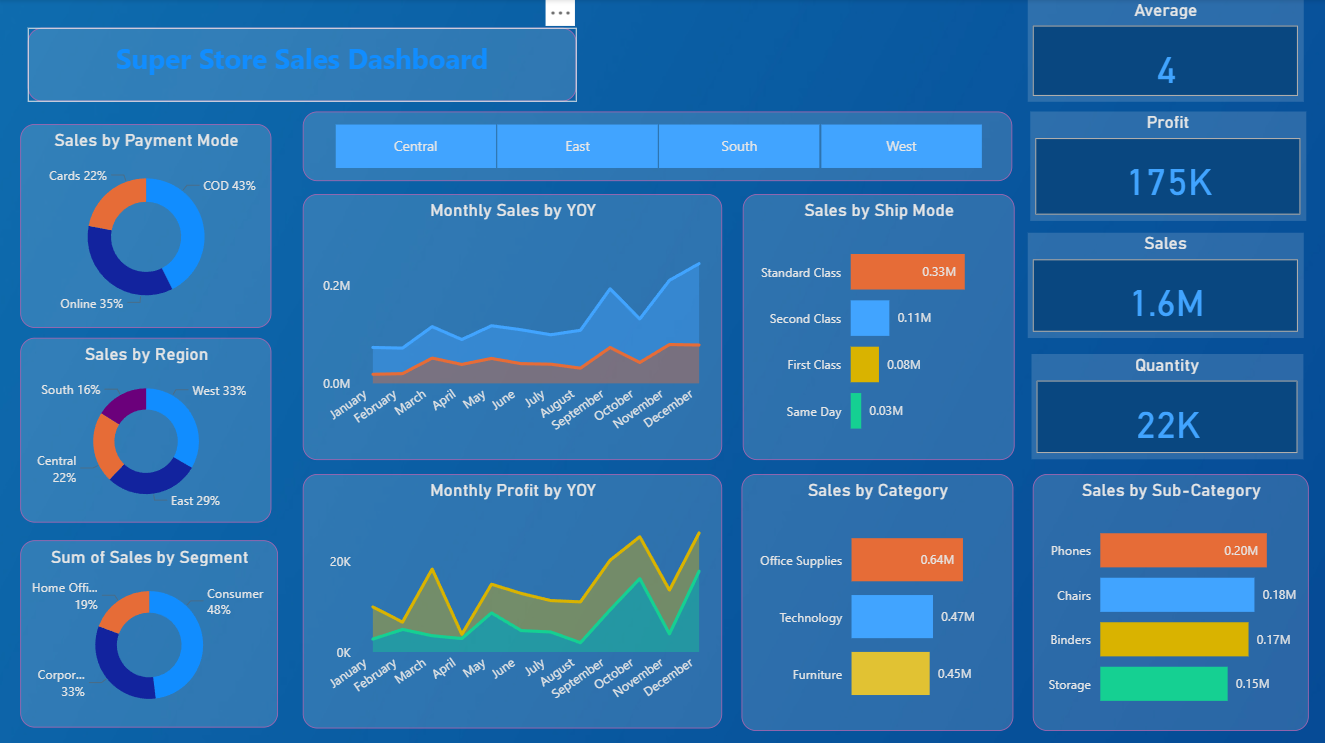

This screenshot's page, from the dashboard's own definition file:
{"tool":"powerbi","page":{"name":"Page 1","canvas":[1280,720],"ordinal":0},"visuals":[{"type":"clusteredBarChart","title":" Sales by Category","fields":{"Category":["SuperStore_Sales_Dataset.Category"],"Y":["Sum(SuperStore_Sales_Dataset.Sales)"]},"box":[716.3,458.3,262.1,248.4],"z":0},{"type":"clusteredBarChart","title":" Sales by Sub-Category","fields":{"Category":["SuperStore_Sales_Dataset.Sub-Category"],"Y":["Sum(SuperStore_Sales_Dataset.Sales)"]},"box":[997.6,458.3,266.2,248.4],"z":1000},{"type":"clusteredBarChart","title":" Sales by Ship Mode","fields":{"Category":["SuperStore_Sales_Dataset.Ship Mode"],"Y":["Sum(SuperStore_Sales_Dataset.Sales)"]},"box":[717.7,188,262.1,256.6],"z":2000},{"type":"stackedAreaChart","title":"Monthly Sales by YOY","fields":{"Y":["Sum(SuperStore_Sales_Dataset.Sales)"],"Category":["SuperStore_Sales_Dataset.Order Date.Variation.Date Hierarchy.Month","SuperStore_Sales_Dataset.Order Date.Variation.Date Hierarchy.Day"],"Series":["SuperStore_Sales_Dataset.Order Date.Variation.Date Hierarchy.Year"]},"box":[293.7,188,404.8,256.6],"z":3000},{"type":"stackedAreaChart","title":"Monthly Profit by YOY","fields":{"Category":["SuperStore_Sales_Dataset.Order Date.Variation.Date Hierarchy.Month","SuperStore_Sales_Dataset.Order Date.Variation.Date Hierarchy.Day"],"Series":["SuperStore_Sales_Dataset.Order Date.Variation.Date Hierarchy.Year"],"Y":["Sum(SuperStore_Sales_Dataset.Profit)"]},"box":[293.7,458.3,404.8,245.6],"z":4000},{"type":"donutChart","fields":{"Category":["SuperStore_Sales_Dataset.Segment"],"Y":["Sum(SuperStore_Sales_Dataset.Sales)"]},"box":[20.5,522.4,248.5,181],"z":5000},{"type":"donutChart","title":"Sales by Payment Mode","fields":{"Category":["SuperStore_Sales_Dataset.Payment Mode"],"Y":["Sum(SuperStore_Sales_Dataset.Sales)"]},"box":[20.5,120.6,242.5,196.6],"z":6000},{"type":"donutChart","title":"Sales by Region","fields":{"Category":["SuperStore_Sales_Dataset.Region"],"Y":["Sum(SuperStore_Sales_Dataset.Sales)"]},"box":[20.5,326.9,242.5,178.6],"z":7000},{"type":"slicer","fields":{"Values":["SuperStore_Sales_Dataset.Region"]},"box":[293.7,108.4,684.7,67.2],"z":8000},{"type":"textbox","box":[27.7,27.7,529.6,71.2],"z":9000},{"type":"cardVisual","title":"Sales","fields":{"Data":["Sum(SuperStore_Sales_Dataset.Sales)"]},"box":[993.5,225,266.2,101.5],"z":10000},{"type":"cardVisual","title":"Profit","fields":{"Data":["Sum(SuperStore_Sales_Dataset.Profit)"]},"box":[994.9,108.4,266.2,105.7],"z":11000},{"type":"cardVisual","title":"Quantity","fields":{"Data":["Sum(SuperStore_Sales_Dataset.Quantity)"]},"box":[996.2,343.1,262.1,101.5],"z":12000},{"type":"cardVisual","title":"Average","fields":{"Data":["Avg(SuperStore_Sales_Dataset.AvgDelivery)"]},"box":[992.9,0,266.6,98.9],"z":13000}]}

Visuals, with their boxes in screenshot pixels (x1, y1, x2, y2), scaled from the page's 1280x720 canvas onto the 1325x743 screenshot:
" Sales by Category" clusteredBarChart: {"x1": 741, "y1": 473, "x2": 1013, "y2": 729}
" Sales by Sub-Category" clusteredBarChart: {"x1": 1033, "y1": 473, "x2": 1308, "y2": 729}
" Sales by Ship Mode" clusteredBarChart: {"x1": 743, "y1": 194, "x2": 1014, "y2": 459}
"Monthly Sales by YOY" stackedAreaChart: {"x1": 304, "y1": 194, "x2": 723, "y2": 459}
"Monthly Profit by YOY" stackedAreaChart: {"x1": 304, "y1": 473, "x2": 723, "y2": 726}
donutChart - SuperStore_Sales_Dataset.Segment x Sum(SuperStore_Sales_Dataset.Sales): {"x1": 21, "y1": 539, "x2": 278, "y2": 726}
"Sales by Payment Mode" donutChart: {"x1": 21, "y1": 124, "x2": 272, "y2": 327}
"Sales by Region" donutChart: {"x1": 21, "y1": 337, "x2": 272, "y2": 522}
slicer - SuperStore_Sales_Dataset.Region: {"x1": 304, "y1": 112, "x2": 1013, "y2": 181}
textbox: {"x1": 29, "y1": 29, "x2": 577, "y2": 102}
"Sales" cardVisual: {"x1": 1028, "y1": 232, "x2": 1304, "y2": 337}
"Profit" cardVisual: {"x1": 1030, "y1": 112, "x2": 1305, "y2": 221}
"Quantity" cardVisual: {"x1": 1031, "y1": 354, "x2": 1303, "y2": 459}
"Average" cardVisual: {"x1": 1028, "y1": 0, "x2": 1304, "y2": 102}
